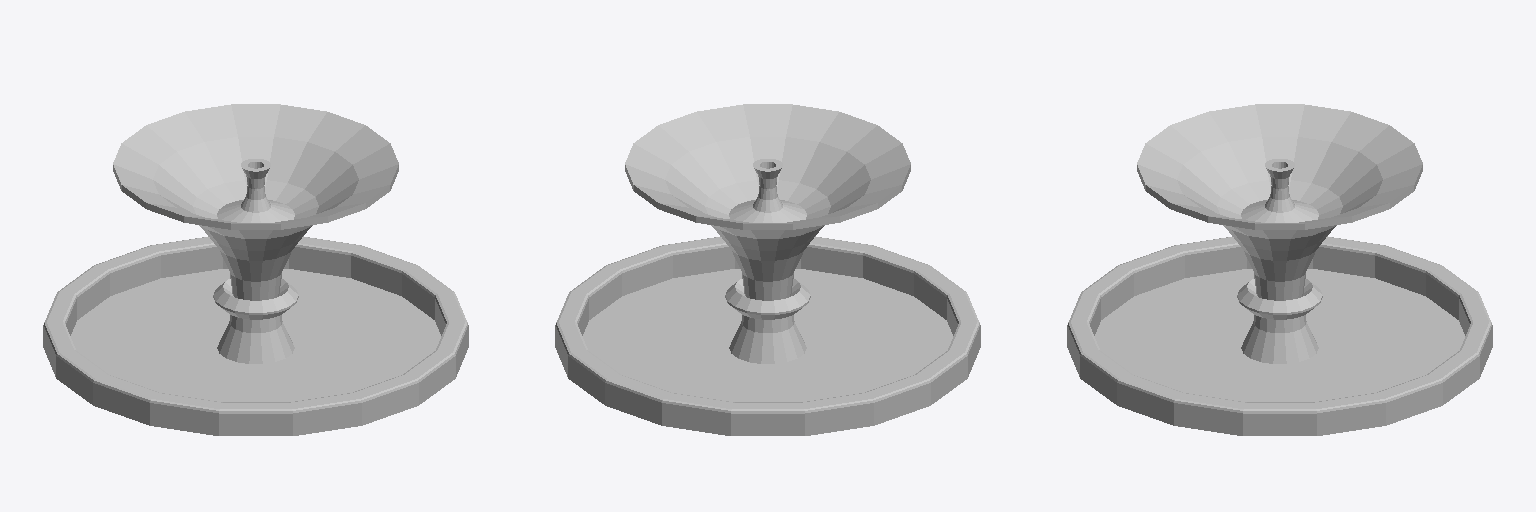
The model's file is fountain.obj.
3 views of the same model, side by side, from view 1: azimuth 30°, elevation 25°; view 2: azimuth 150°, elevation 25°; view 3: azimuth 270°, elevation 25° (orthographic).
Parts seen in each view (by area): view 1: fountain; view 2: fountain; view 3: fountain.
Part boxes in pixels (bbox=[...]): fountain: bbox=[43, 104, 468, 435]; fountain: bbox=[555, 104, 980, 435]; fountain: bbox=[1067, 104, 1492, 435].
Bounding box in the file's own units: 74.22 × 36.01 × 75.37.